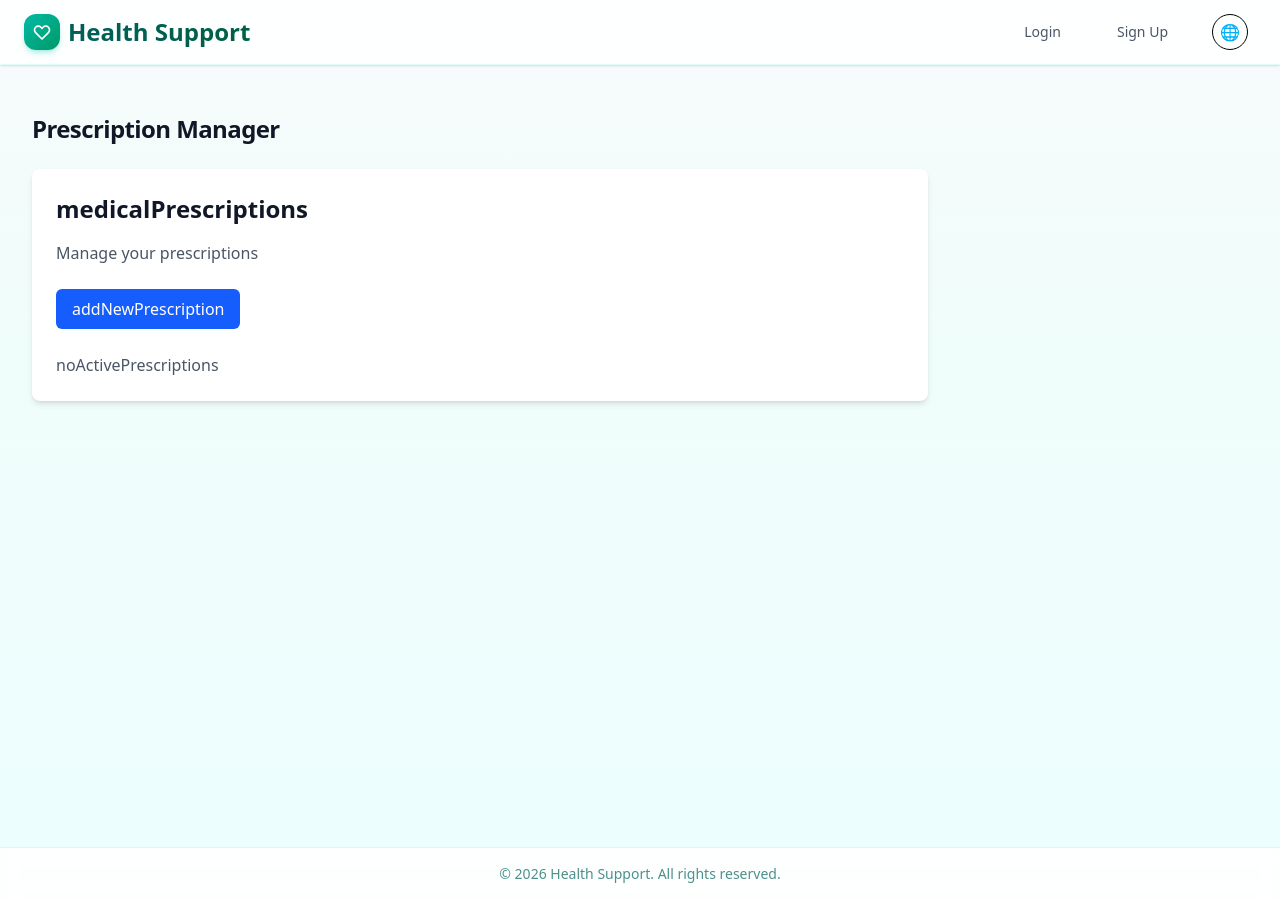
Prescription › disables the add form save button while saving
Click the button "addNewPrescription" at (148, 309), box x1=56 y1=289 x2=240 y2=329
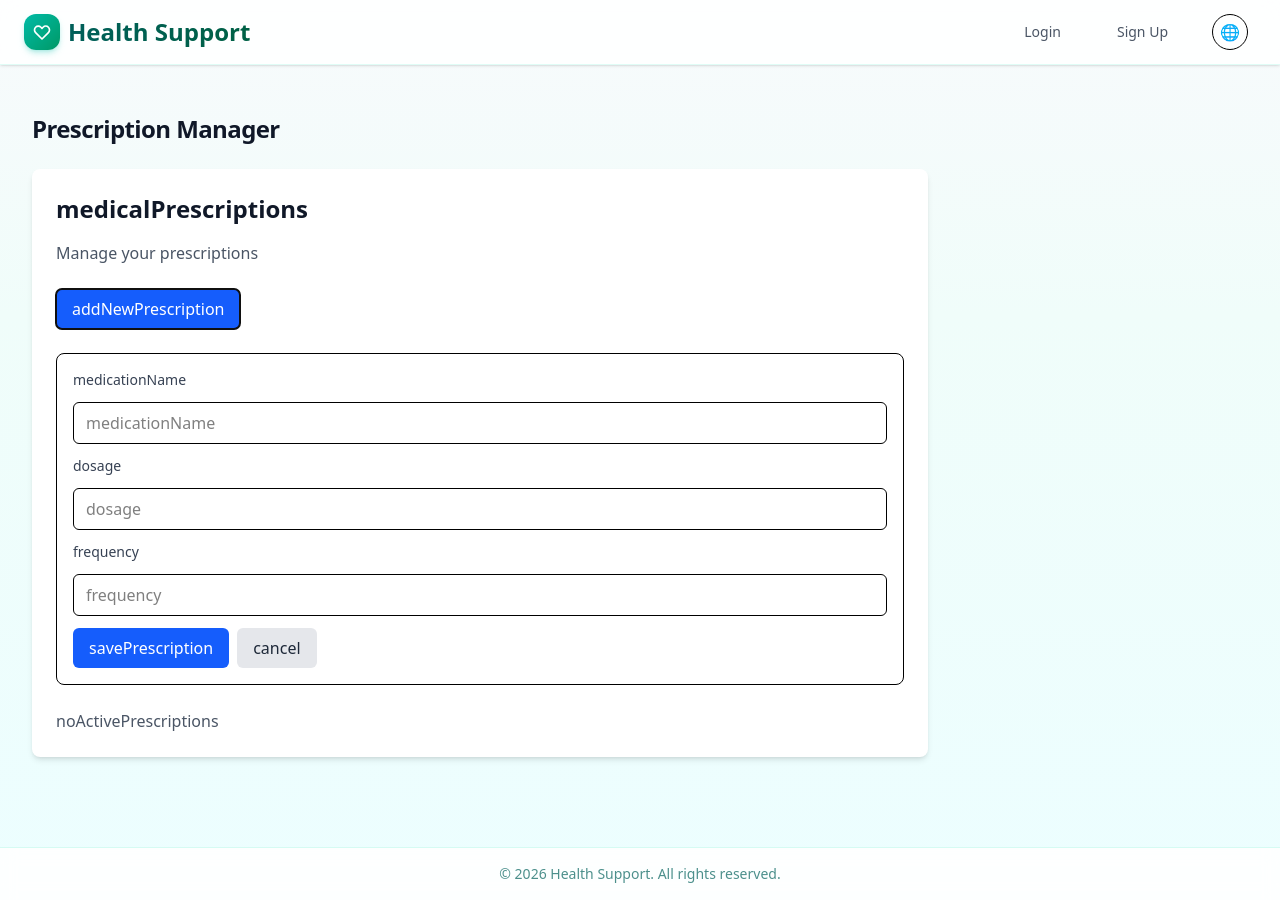
Type "Aspirin" into the field with placeholder "medicationName" at (480, 423), box x1=73 y1=402 x2=887 y2=444
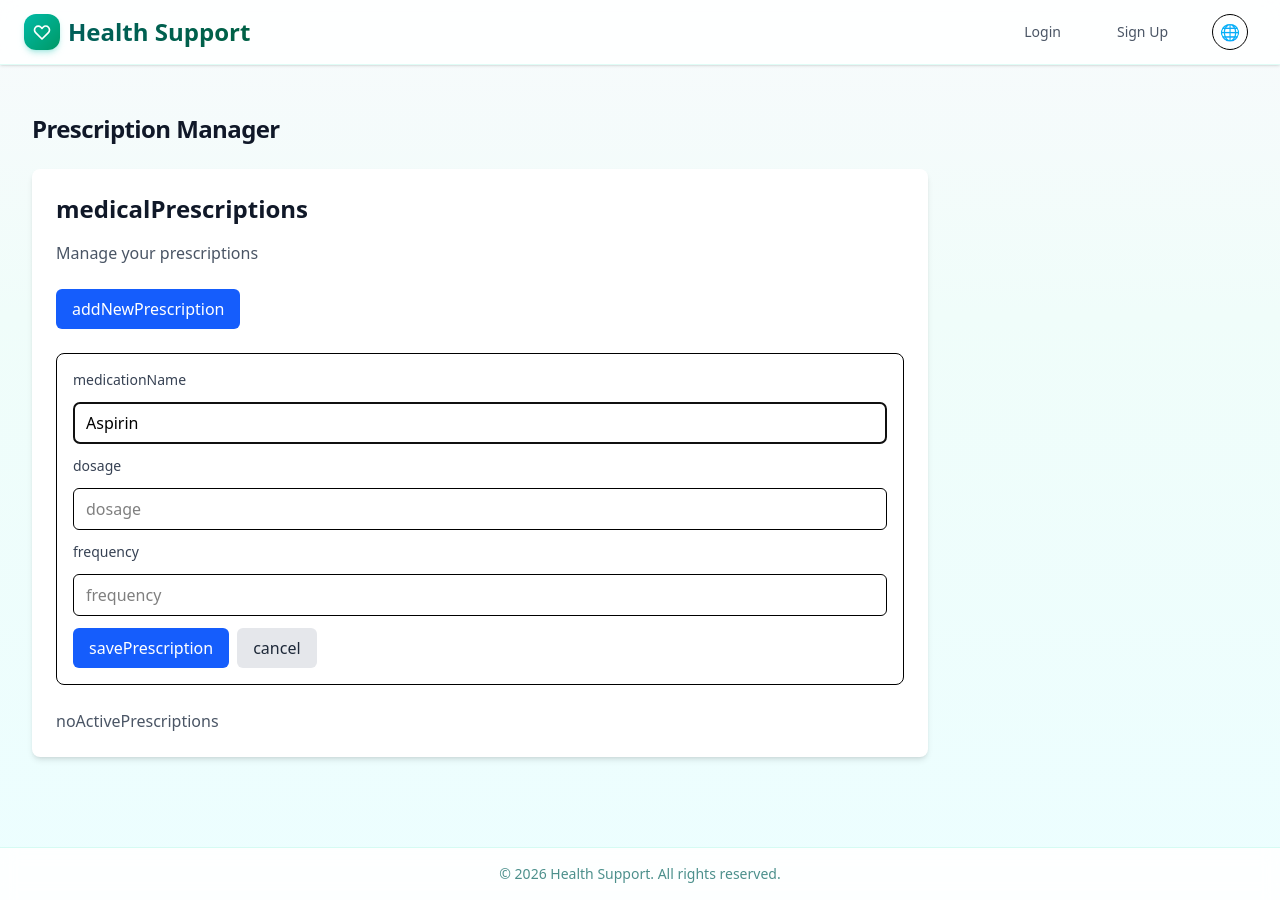
Type "81 mg" into the field with placeholder "dosage" at (480, 509), box x1=73 y1=488 x2=887 y2=530
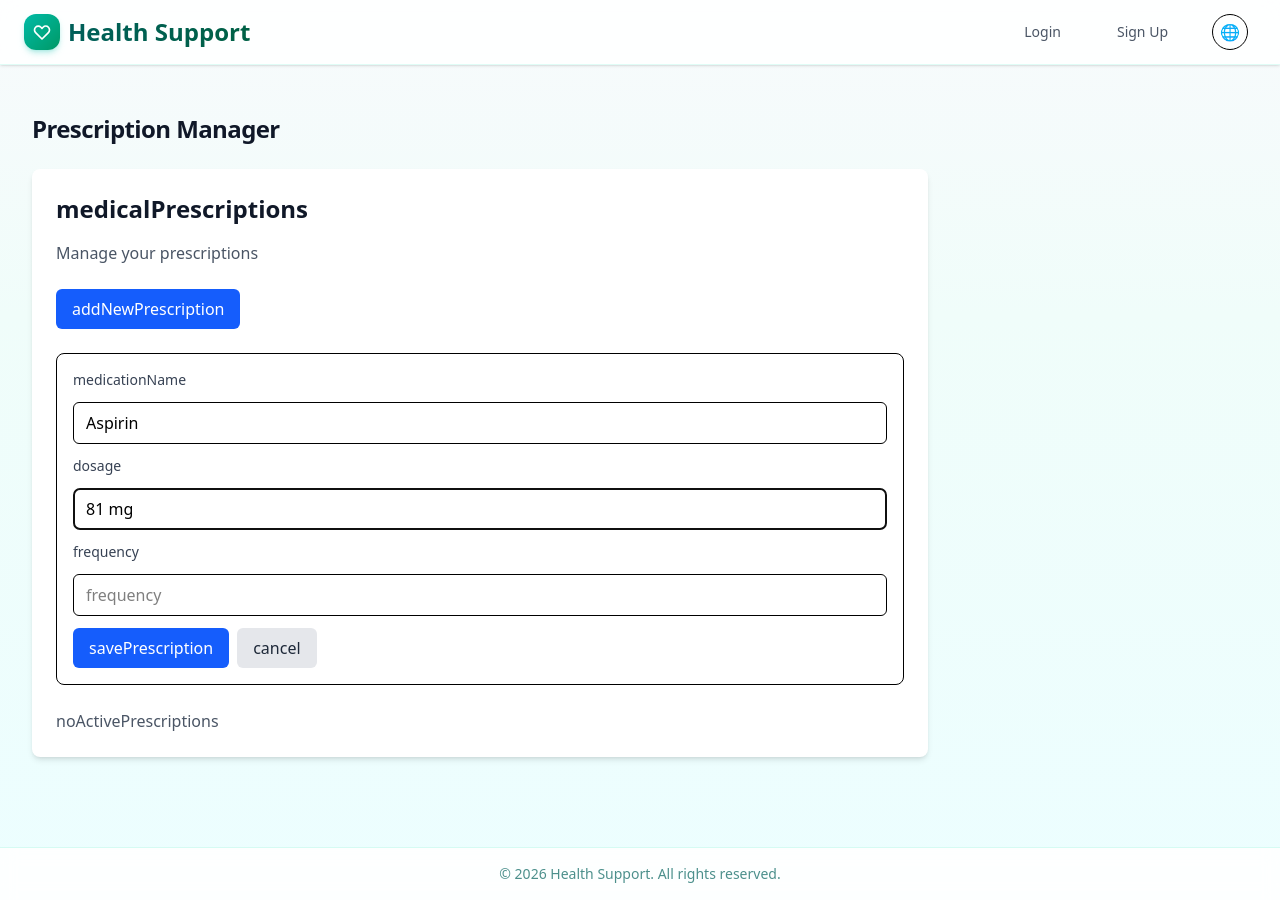
Type "Once daily" into the field with placeholder "frequency" at (480, 595), box x1=73 y1=574 x2=887 y2=616
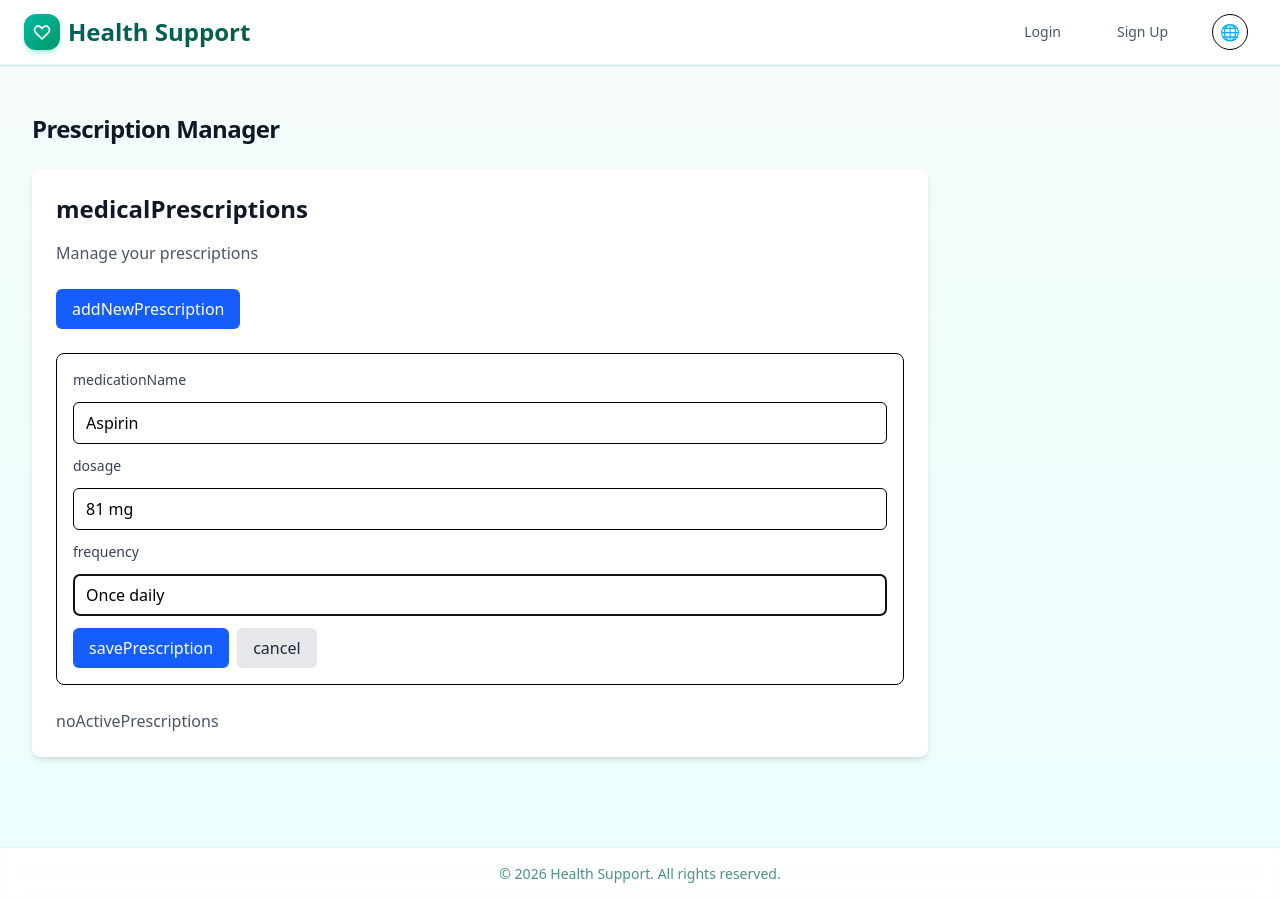
Click the button "savePrescription" at (151, 648), box x1=73 y1=628 x2=229 y2=668
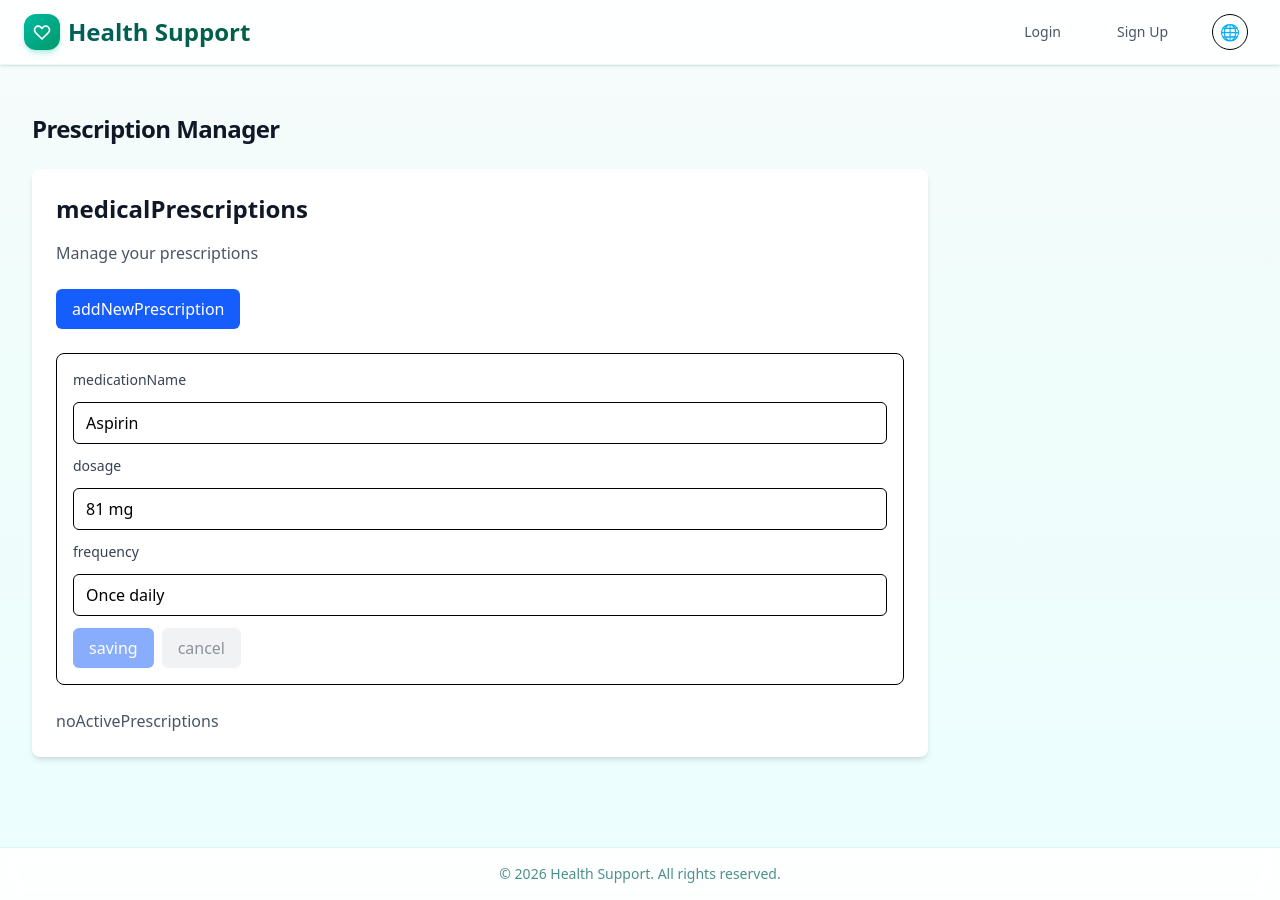
Now the button named "savePrescription" is disabled, box x1=73 y1=628 x2=154 y2=668
